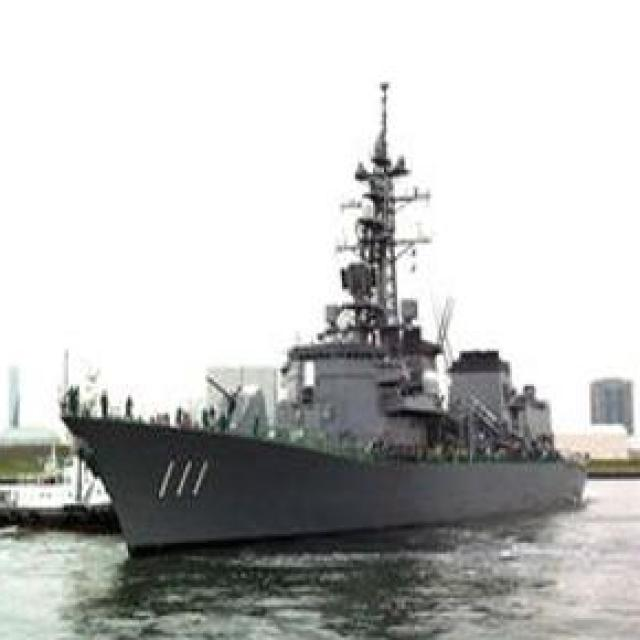navalvessels: (49, 68, 588, 564)
